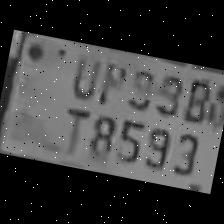3: (166, 125, 204, 181)
5: (111, 114, 147, 166)
8: (82, 108, 119, 162)
9: (139, 121, 173, 173)
B: (178, 72, 215, 124)
G: (205, 77, 224, 130)
P: (93, 55, 129, 107)
T: (52, 100, 90, 156)
U: (64, 48, 103, 102)
